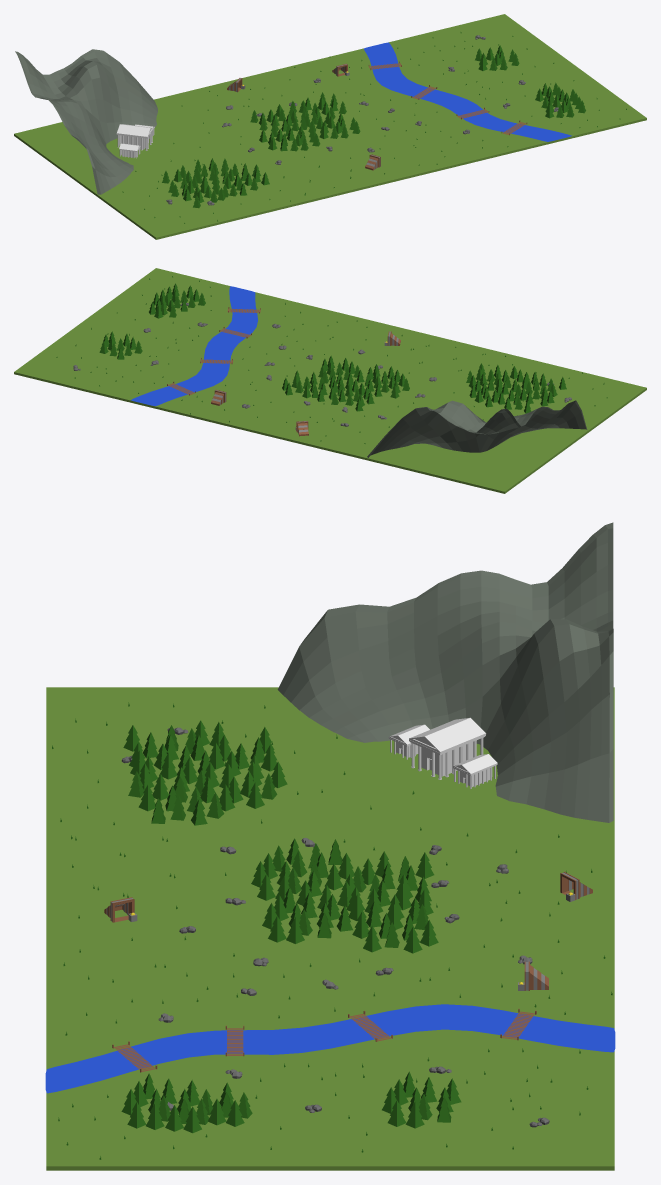
File: MapConcept.fbx
The picture shows the model from 3 angles, top to bottom: view 1: azimuth 30°, elevation 25°; view 2: azimuth 150°, elevation 25°; view 3: azimuth 270°, elevation 25°; orthographic projection. The views are drawn at different scales.
Parts seen in each view (by area): view 1: Table, Mountain, Plane.007, Building; view 2: Table, Mountain, Plane.007; view 3: Table, Mountain, Plane.007, Building, Building.001.
Boxes of the visible parts, x1,y1,x2,y2 form: Table: (14,14,646,239); Mountain: (15,49,157,194); Plane.007: (364,42,571,141); Building: (116,124,153,150); Table: (14,268,646,493); Mountain: (367,400,587,457); Plane.007: (131,286,257,406); Table: (46,687,614,1170); Mountain: (277,522,613,822); Plane.007: (45,1004,615,1093); Building: (409,717,486,779); Building.001: (452,754,497,788).
Bounding box in the file's own units: 3608 × 595 × 1813.
